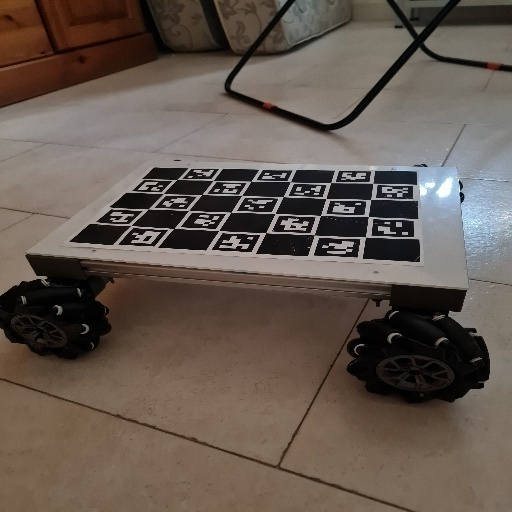Omniwheel: (1, 155, 490, 409)
